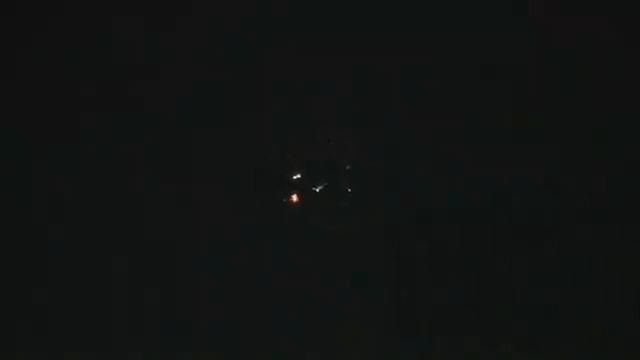Plane: (230, 152, 392, 219)
